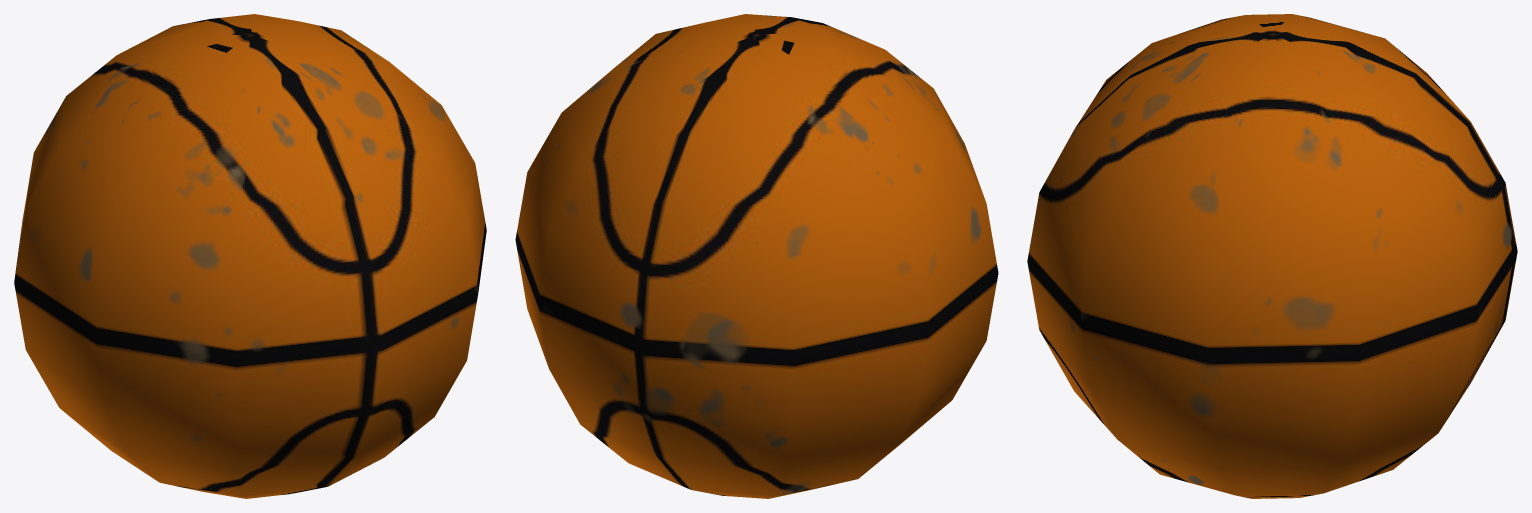
File: basketball.glb
3 renders of one model, left to right at view 1: azimuth 30°, elevation 25°; view 2: azimuth 150°, elevation 25°; view 3: azimuth 270°, elevation 25°, orthographic.
Parts seen in each view (by area): view 1: basketball; view 2: basketball; view 3: basketball.
Part boxes in pixels (box(x1,y1,x2,y2)): basketball: box(14, 14, 486, 498); basketball: box(515, 14, 998, 498); basketball: box(1027, 14, 1517, 498).
Size of the model in its own units: 12.42 by 12.88 by 12.86.
1 material, 1 textured.
